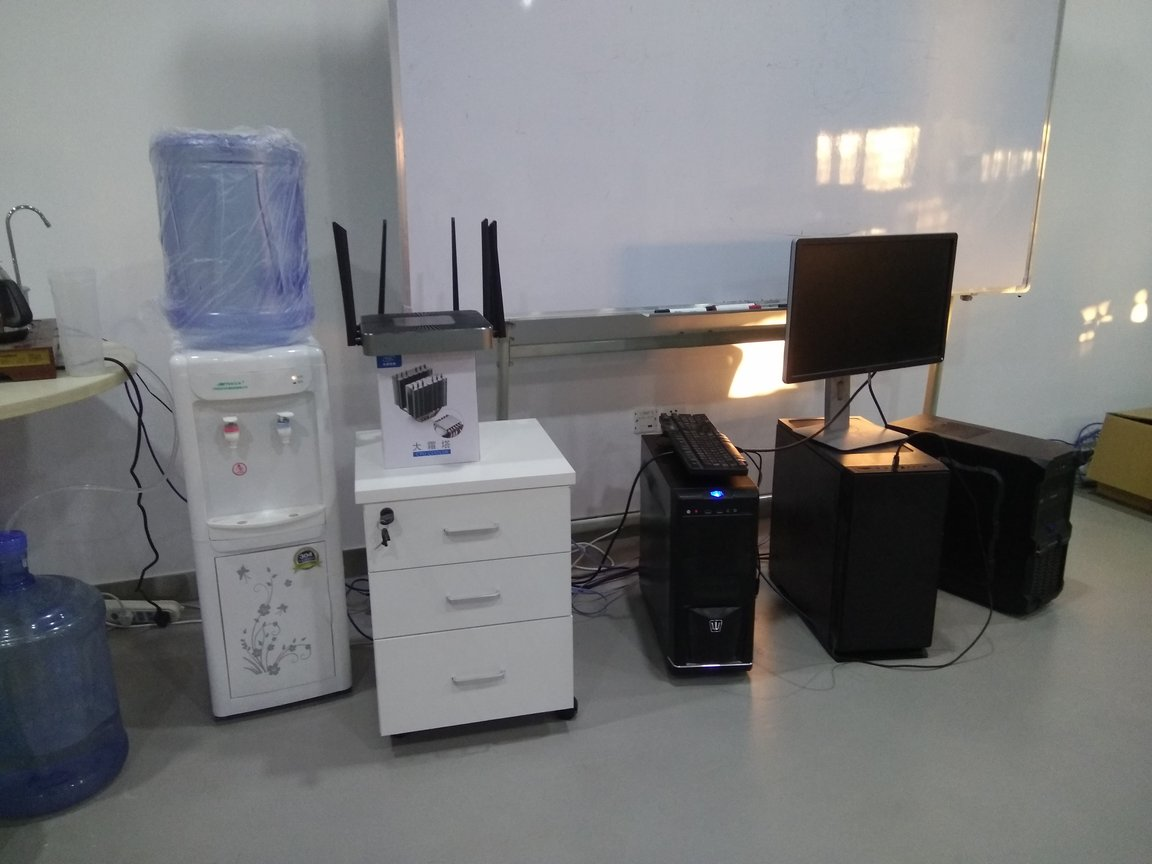computer: (775, 413, 937, 672), (896, 409, 1081, 626), (638, 432, 760, 685)
drawer chest: (353, 418, 588, 750)
monitor: (784, 233, 960, 458)
scuttlebutt: (147, 129, 336, 350), (1, 528, 136, 831)
water dispenser: (171, 330, 356, 712)
